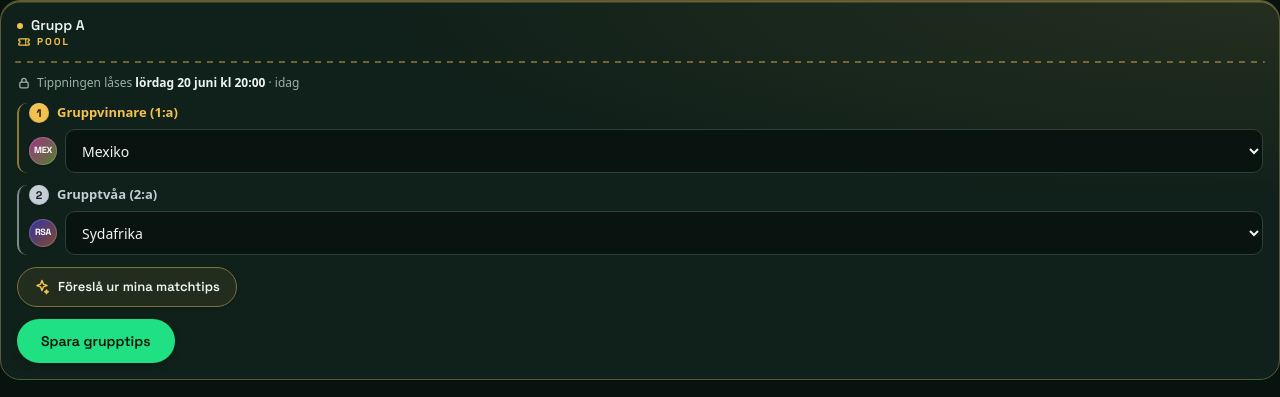
GroupPredictionForm › FÖRSLAG: skriver över ett befintligt val i FORMULÄRET, men sparar fortfarande inte
This screenshot has width=1280, height=397.
Expected: the dropdown labelled "Gruppvinnare (1:a)" shows "Mexiko", x1=65 y1=129 x2=1263 y2=173
Click the button "Föreslå ur mina matchtips" at (127, 287), box x1=17 y1=267 x2=237 y2=307
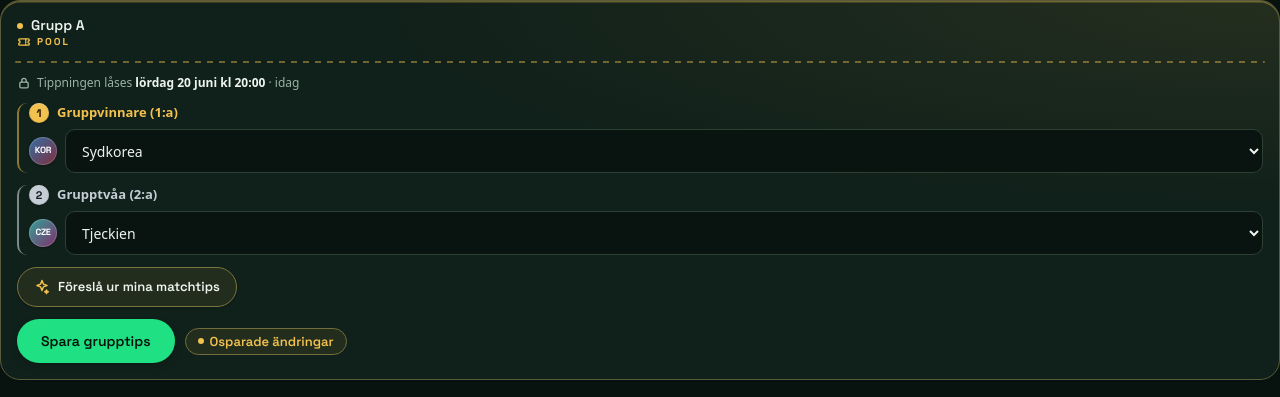
Expected: the dropdown labelled "Gruppvinnare (1:a)" shows "Sydkorea", x1=65 y1=129 x2=1263 y2=173
Expected: the dropdown labelled "Grupptvåa (2:a)" shows "Tjeckien", x1=65 y1=211 x2=1263 y2=255
